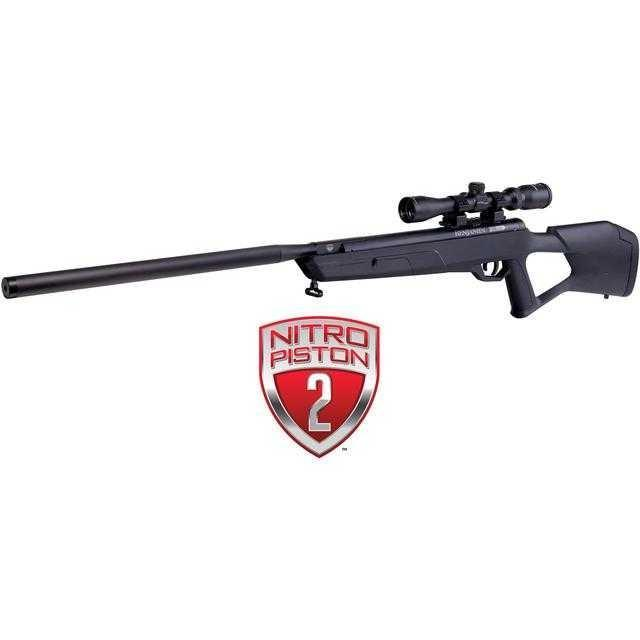weapon: (0, 162, 634, 360)
